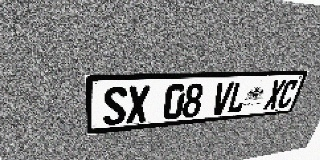0: (162, 84, 187, 120)
8: (181, 83, 205, 118)
C: (276, 79, 300, 109)
L: (226, 81, 250, 114)
S: (103, 86, 127, 126)
V: (210, 82, 234, 115)
X: (126, 85, 150, 124), (263, 80, 287, 110)
